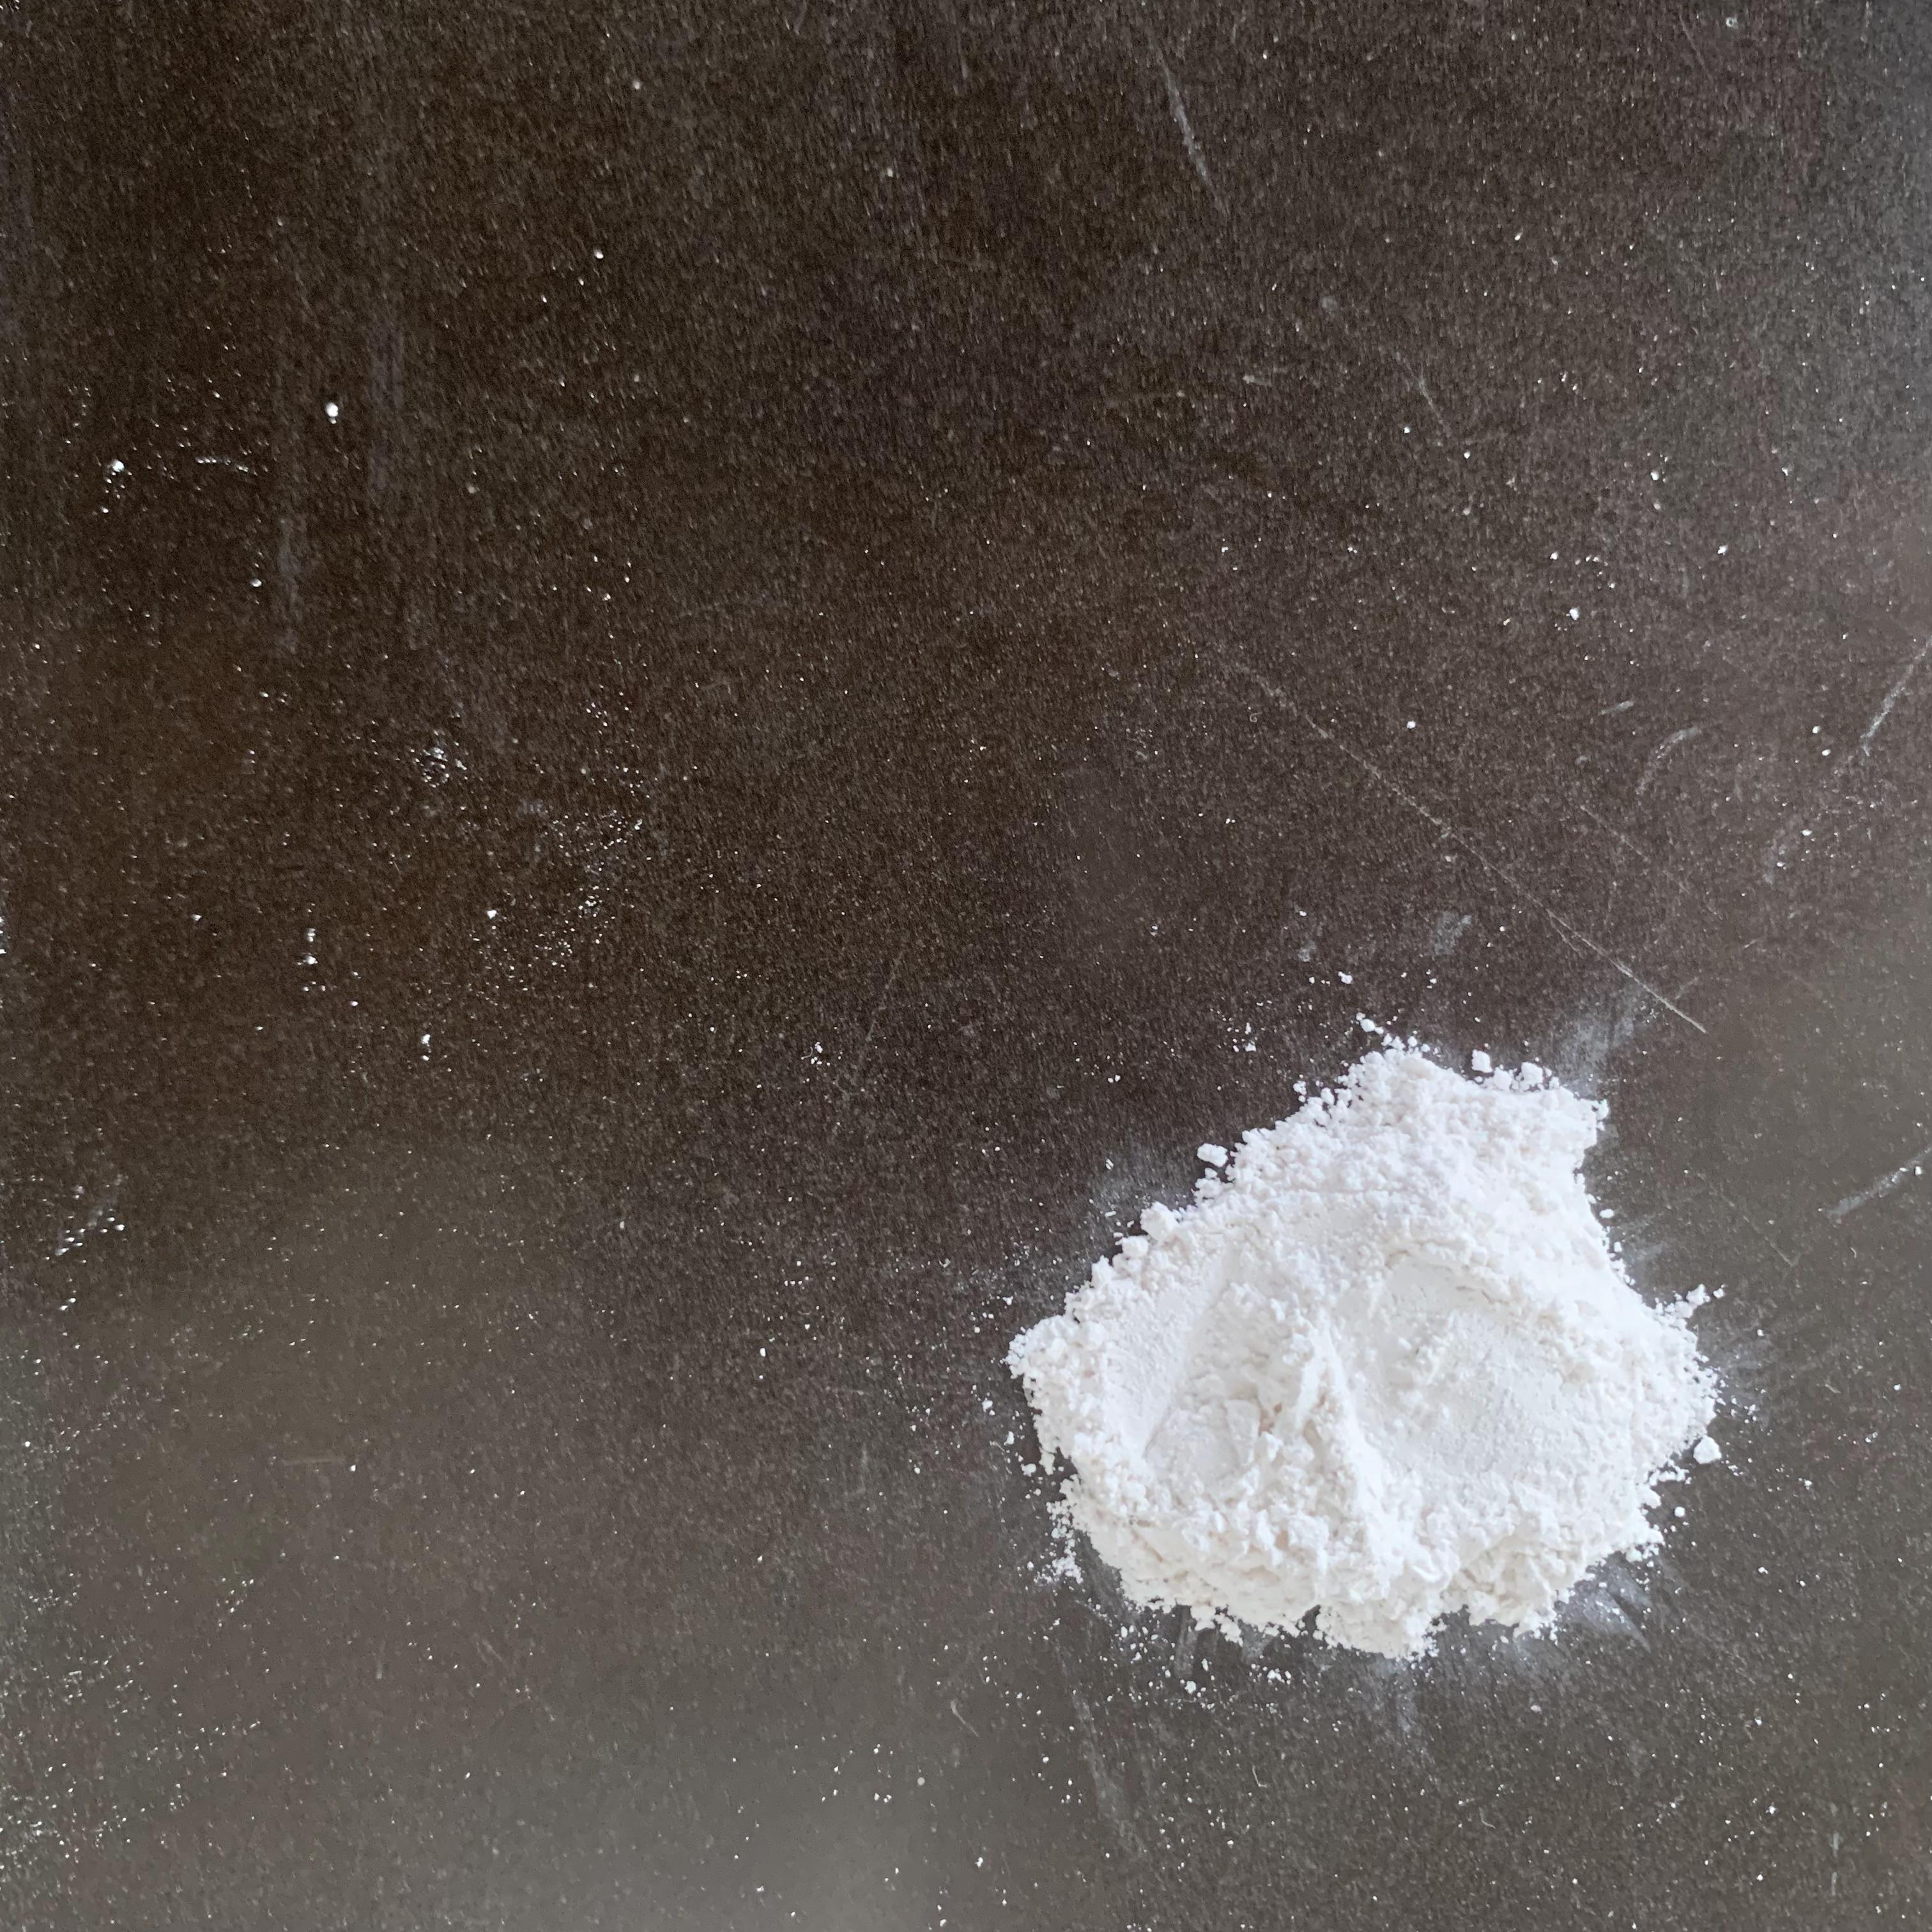ash pile: (1008, 1033, 1734, 1663)
